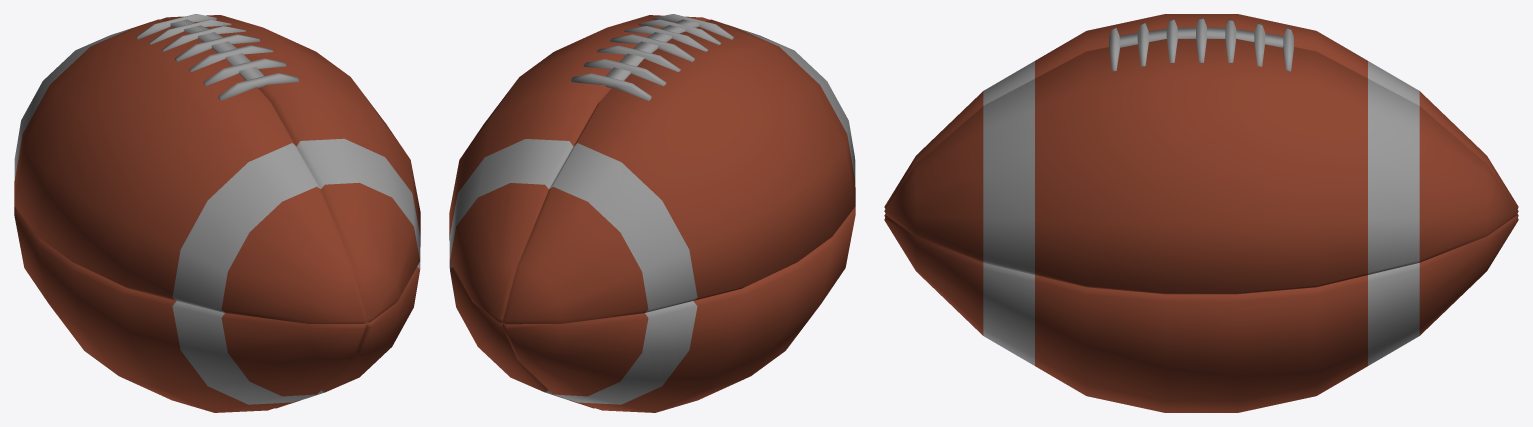
Rendered from Entity_Football.FBX.
3 renders of one model, left to right at view 1: azimuth 30°, elevation 25°; view 2: azimuth 150°, elevation 25°; view 3: azimuth 270°, elevation 25°, orthographic. The views are drawn at different scales.
Visible parts, largest first — view 1: Football; view 2: Football; view 3: Football.
Part boxes in pixels (x1,y1,x2,y2): Football: (14,14,420,412); Football: (449,14,855,412); Football: (884,14,1518,412).
Size of the model in its own units: 46.93 by 47.43 by 75.17.
